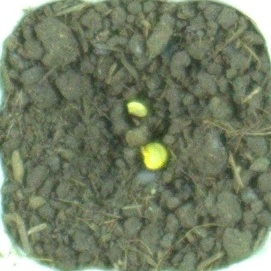chilli seed: (139, 141, 170, 171), (125, 99, 150, 119)
